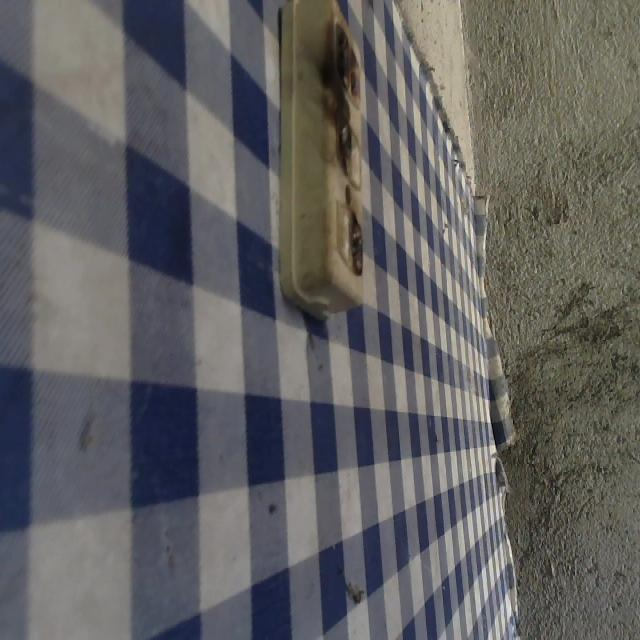-: (328, 7, 362, 100), (333, 110, 352, 178), (346, 208, 362, 277)
